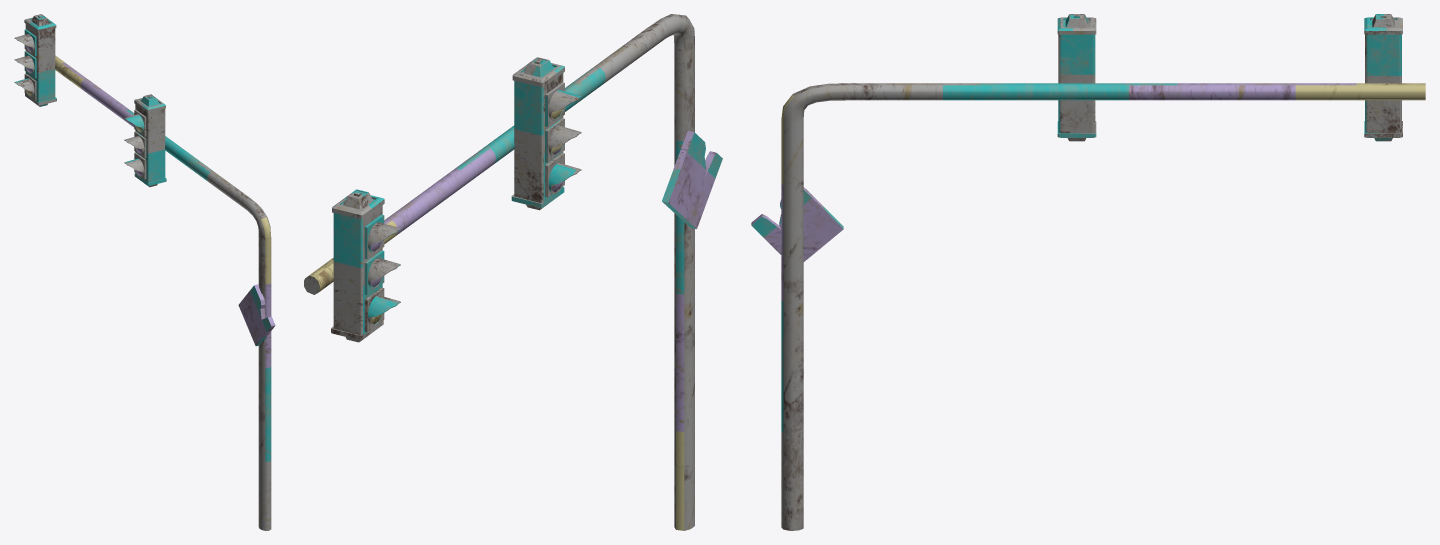
The model's file is long traffic.fbx.
The picture shows the model from 3 angles, left to right: view 1: azimuth 30°, elevation 25°; view 2: azimuth 150°, elevation 25°; view 3: azimuth 270°, elevation 25°; orthographic projection. The views are drawn at different scales.
Visible parts, largest first — view 1: polySurface318, polySurface304, polySurface326, polySurface319, polySurface333, polySurface303; view 2: polySurface318, polySurface326, polySurface304, polySurface319, polySurface303, polySurface333, polySurface320, polySurface321, polySurface295, polySurface331, polySurface335, polySurface328; view 3: polySurface318, polySurface304, polySurface326, polySurface319.
Part boxes in pixels (bbox=[...]): polySurface318: bbox=[55, 55, 271, 530]; polySurface304: bbox=[135, 104, 165, 182]; polySurface326: bbox=[25, 24, 55, 102]; polySurface319: bbox=[238, 284, 275, 346]; polySurface333: bbox=[24, 14, 56, 32]; polySurface303: bbox=[134, 94, 165, 112]; polySurface318: bbox=[304, 14, 694, 530]; polySurface326: bbox=[333, 205, 382, 335]; polySurface304: bbox=[514, 73, 563, 202]; polySurface319: bbox=[662, 130, 722, 229]; polySurface303: bbox=[512, 57, 564, 87]; polySurface333: bbox=[332, 189, 384, 219]; polySurface320: bbox=[548, 126, 581, 156]; polySurface321: bbox=[548, 163, 581, 193]; polySurface295: bbox=[548, 90, 581, 120]; polySurface331: bbox=[367, 222, 400, 252]; polySurface335: bbox=[367, 295, 400, 326]; polySurface328: bbox=[368, 258, 400, 288]; polySurface318: bbox=[781, 83, 1425, 530]; polySurface304: bbox=[1058, 34, 1095, 133]; polySurface326: bbox=[1365, 34, 1401, 133]; polySurface319: bbox=[751, 187, 843, 261].
Size of the model in its own units: 0.764 by 6.17 by 7.5.
